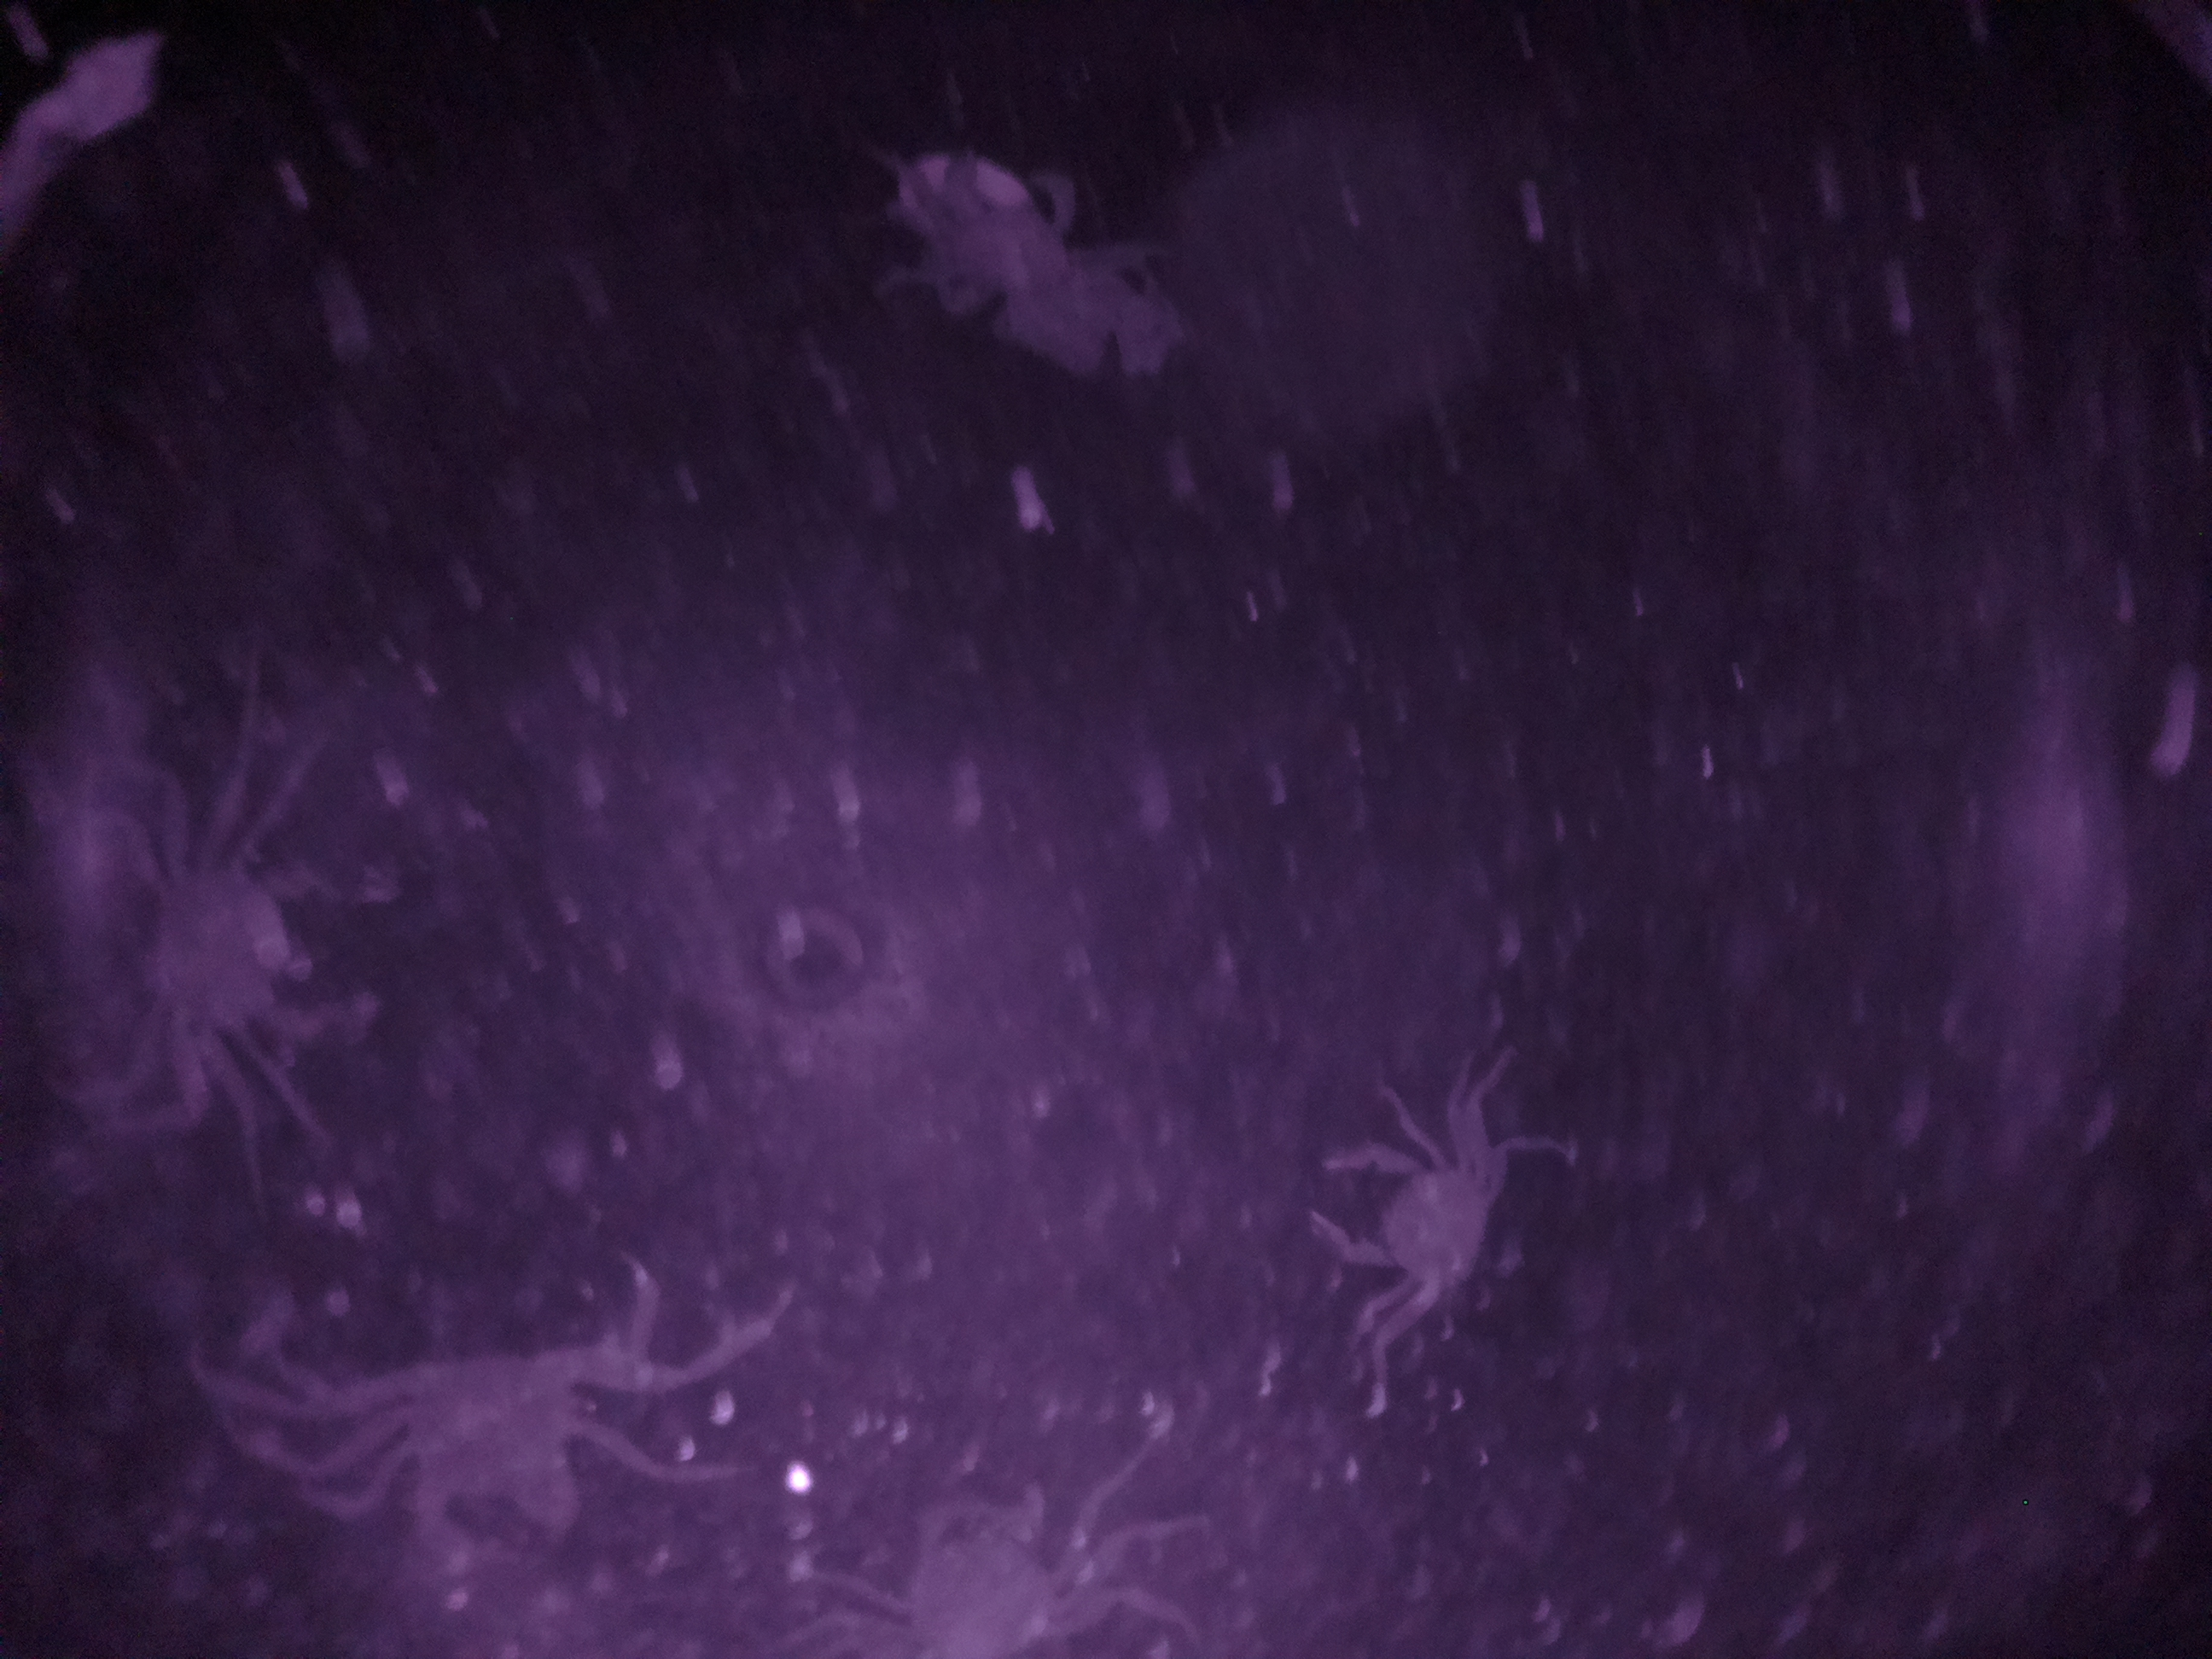Crab: (1273, 1082, 1519, 1347)
